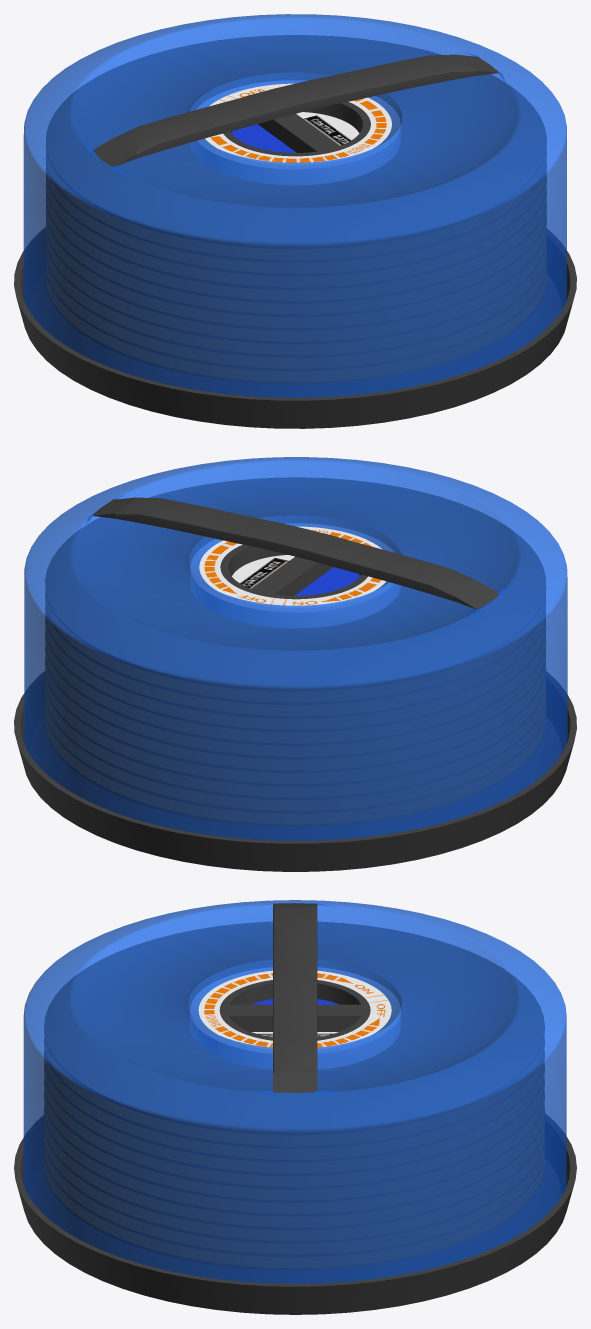
File: a-opt-disk-pack-833.glb
3 views of the same model, one above another, from view 1: azimuth 30°, elevation 25°; view 2: azimuth 150°, elevation 25°; view 3: azimuth 270°, elevation 25° (orthographic).
Parts seen in each view (by area): view 1: DiskPack833; view 2: DiskPack833; view 3: DiskPack833.
Part boxes in pixels (left/top/right/bottom): DiskPack833: left=14, top=14, right=576, bottom=428; DiskPack833: left=14, top=457, right=576, bottom=871; DiskPack833: left=14, top=900, right=576, bottom=1314.
Size of the model in its own units: 0.4 by 0.1723 by 0.4.
Materials: 7 (7 with a texture image).
